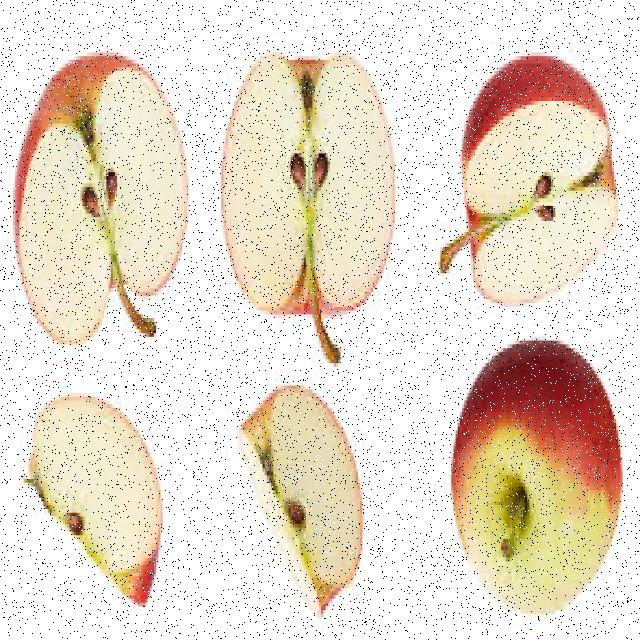Apple: (15, 52, 185, 345), (452, 339, 622, 617), (220, 57, 394, 319), (459, 59, 618, 304), (238, 388, 366, 614), (29, 401, 161, 611)
